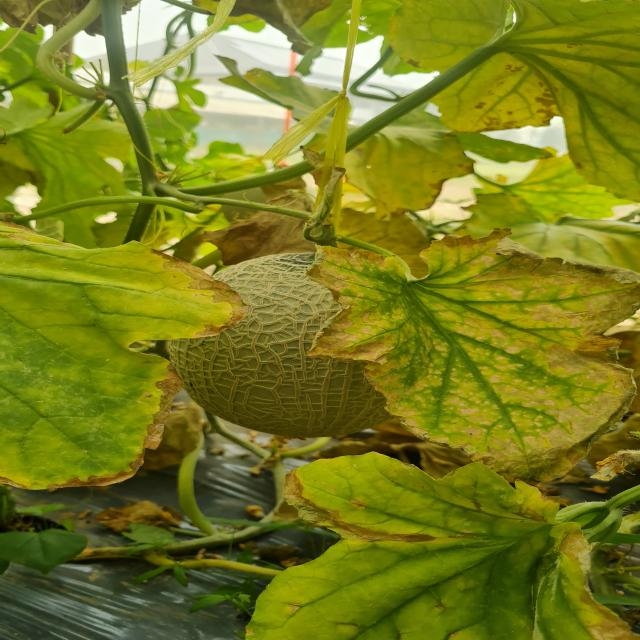melon: (167, 252, 391, 438)
